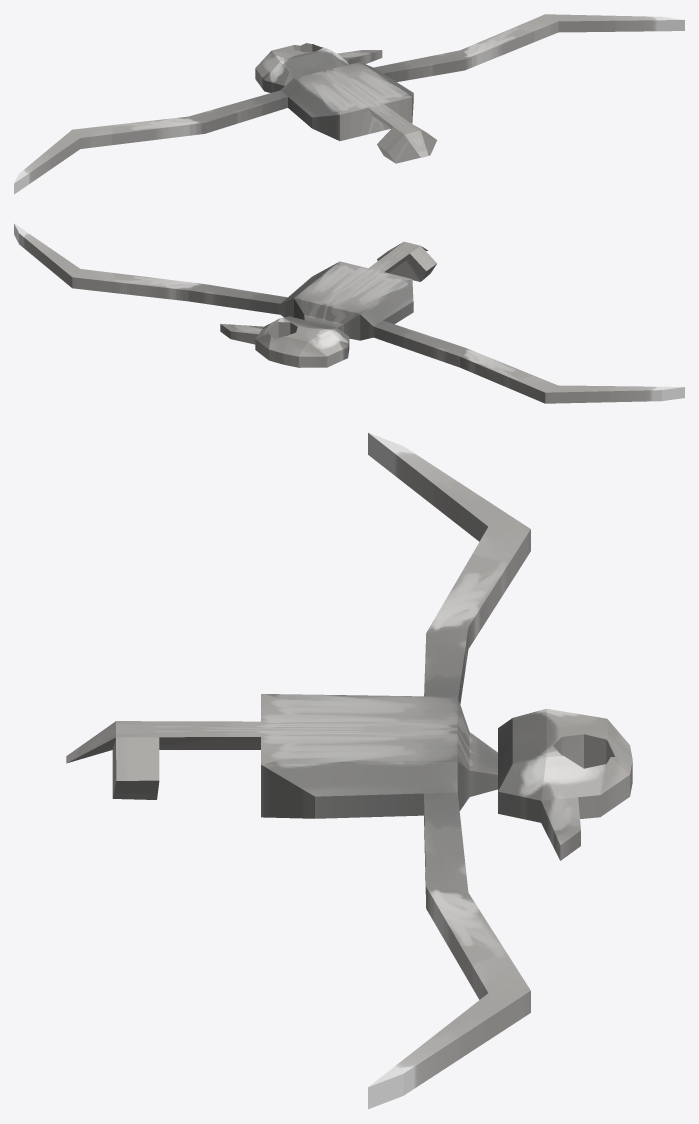
Rendered from Seagull04.fbx.
The picture shows the model from 3 angles, top to bottom: view 1: azimuth 30°, elevation 25°; view 2: azimuth 150°, elevation 25°; view 3: azimuth 270°, elevation 25°; orthographic projection. The views are drawn at different scales.
Parts seen in each view (by area): view 1: Seagull04; view 2: Seagull04; view 3: Seagull04.
Part boxes in pixels (<box>): Seagull04: <box>14,14,684,194</box>; Seagull04: <box>14,223,684,403</box>; Seagull04: <box>66,432,632,1109</box>.
Bounding box in the file's own units: 0.3774 × 0.0142 × 0.138.
Materials: 1 (1 with a texture image).
